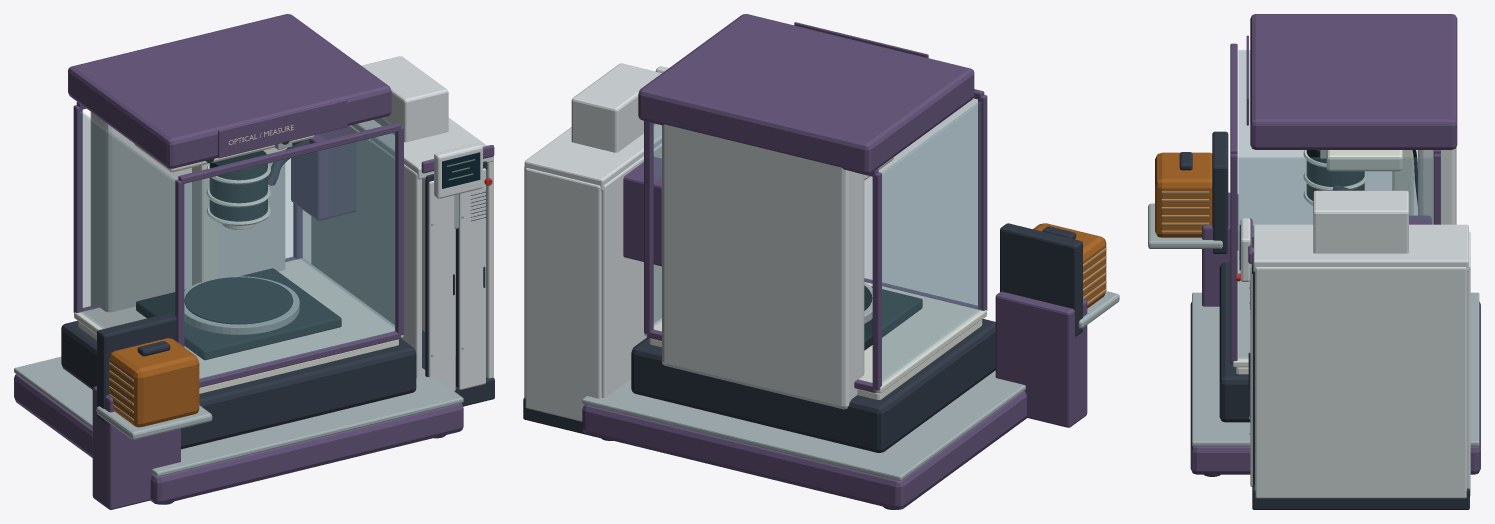
File: equipment-metrology.glb
The picture shows the model from 3 angles, left to right: view 1: azimuth 30°, elevation 25°; view 2: azimuth 150°, elevation 25°; view 3: azimuth 270°, elevation 25°; orthographic projection. The views are drawn at different scales.
Parts seen in each view (by area): view 1: Front observation window, C frame optical bridge, C frame rear optical column, Side observation window, Granite isolation block, Side observation window.001, Side service skin, Segmented service plinth, Raised deck edge, Satin service deck, Amber wafer transport pod, Independent load port base (+25 smaller); view 2: C frame rear optical column, C frame optical bridge, Side observation window, Rear utility enclosure, Front observation window, Granite isolation block, Segmented service plinth, Raised deck edge, Independent load port base, Side service skin, Pod docking bulkhead, Satin service deck (+11 smaller); view 3: Side service skin.001, C frame optical bridge, Side observation window.001, Side observation window, Filtered ceiling, Raised deck edge, Optical electronics fin, Amber wafer transport pod, Granite isolation block, Equipment plinth, Segmented service plinth, C frame rear optical column (+14 smaller).
Part boxes in pixels (x1=…): Front observation window: x1=184, y1=132, x2=395, y2=379; C frame optical bridge: x1=68, y1=14, x2=391, y2=168; C frame rear optical column: x1=90, y1=112, x2=285, y2=312; Side observation window: x1=79, y1=111, x2=175, y2=328; Granite isolation block: x1=61, y1=320, x2=416, y2=449; Side observation window.001: x1=299, y1=118, x2=394, y2=327; Side service skin: x1=311, y1=125, x2=421, y2=378; Segmented service plinth: x1=14, y1=374, x2=463, y2=504; Raised deck edge: x1=14, y1=357, x2=463, y2=476; Satin service deck: x1=74, y1=258, x2=403, y2=378; Amber wafer transport pod: x1=109, y1=338, x2=199, y2=427; Independent load port base: x1=92, y1=386, x2=180, y2=509; C frame rear optical column: x1=662, y1=124, x2=864, y2=409; C frame optical bridge: x1=638, y1=14, x2=974, y2=174; Side observation window: x1=882, y1=101, x2=981, y2=381; Rear utility enclosure: x1=525, y1=168, x2=601, y2=421; Front observation window: x1=864, y1=98, x2=977, y2=306; Granite isolation block: x1=631, y1=319, x2=995, y2=452; Segmented service plinth: x1=582, y1=391, x2=1026, y2=509; Raised deck edge: x1=582, y1=370, x2=1025, y2=480; Independent load port base: x1=995, y1=291, x2=1087, y2=427; Side service skin: x1=601, y1=143, x2=661, y2=397; Pod docking bulkhead: x1=1000, y1=223, x2=1082, y2=336; Satin service deck: x1=644, y1=282, x2=986, y2=393; Side service skin.001: x1=1255, y1=267, x2=1466, y2=498; C frame optical bridge: x1=1250, y1=14, x2=1457, y2=149; Side observation window.001: x1=1238, y1=157, x2=1432, y2=358; Side observation window: x1=1238, y1=50, x2=1417, y2=250; Filtered ceiling: x1=1253, y1=224, x2=1468, y2=271; Raised deck edge: x1=1192, y1=292, x2=1479, y2=446; Optical electronics fin: x1=1313, y1=190, x2=1408, y2=253; Amber wafer transport pod: x1=1155, y1=152, x2=1212, y2=237; Granite isolation block: x1=1219, y1=262, x2=1250, y2=422; Equipment plinth: x1=1252, y1=485, x2=1469, y2=509; Segmented service plinth: x1=1190, y1=301, x2=1480, y2=474; C frame rear optical column: x1=1418, y1=147, x2=1456, y2=224.
Size of the model in its own units: 6.61 by 5.2 by 4.58.
